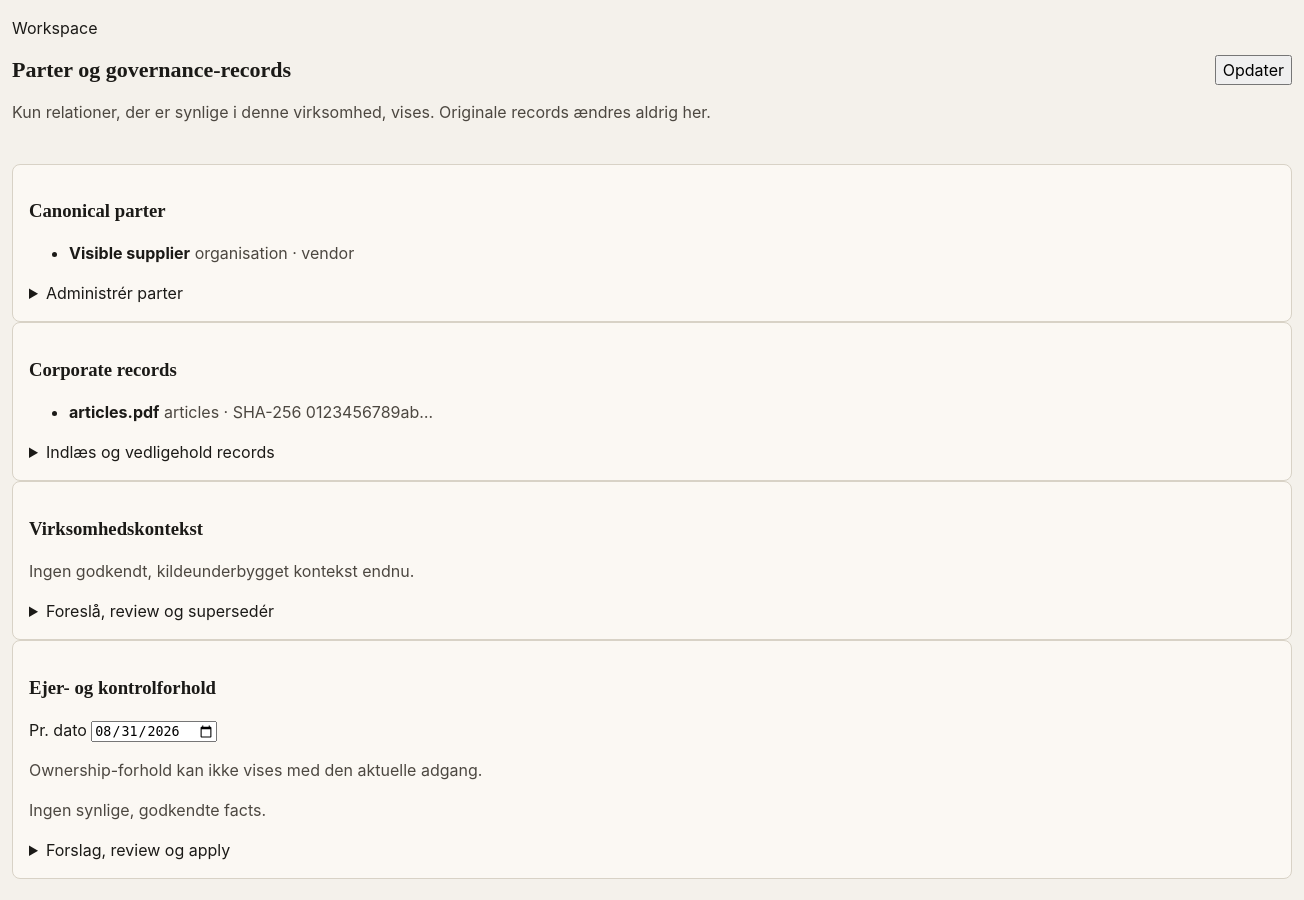
Test: WorkspaceRegistryView › lists visible data and refreshes it through the compact action
Check: the text "Visible supplier" is shown, box 69,243 -> 190,263
Check: the text "articles.pdf" is shown, box 69,402 -> 159,422
Click the button "Opdater": point(1253, 70) 1215,55 -> 1292,85
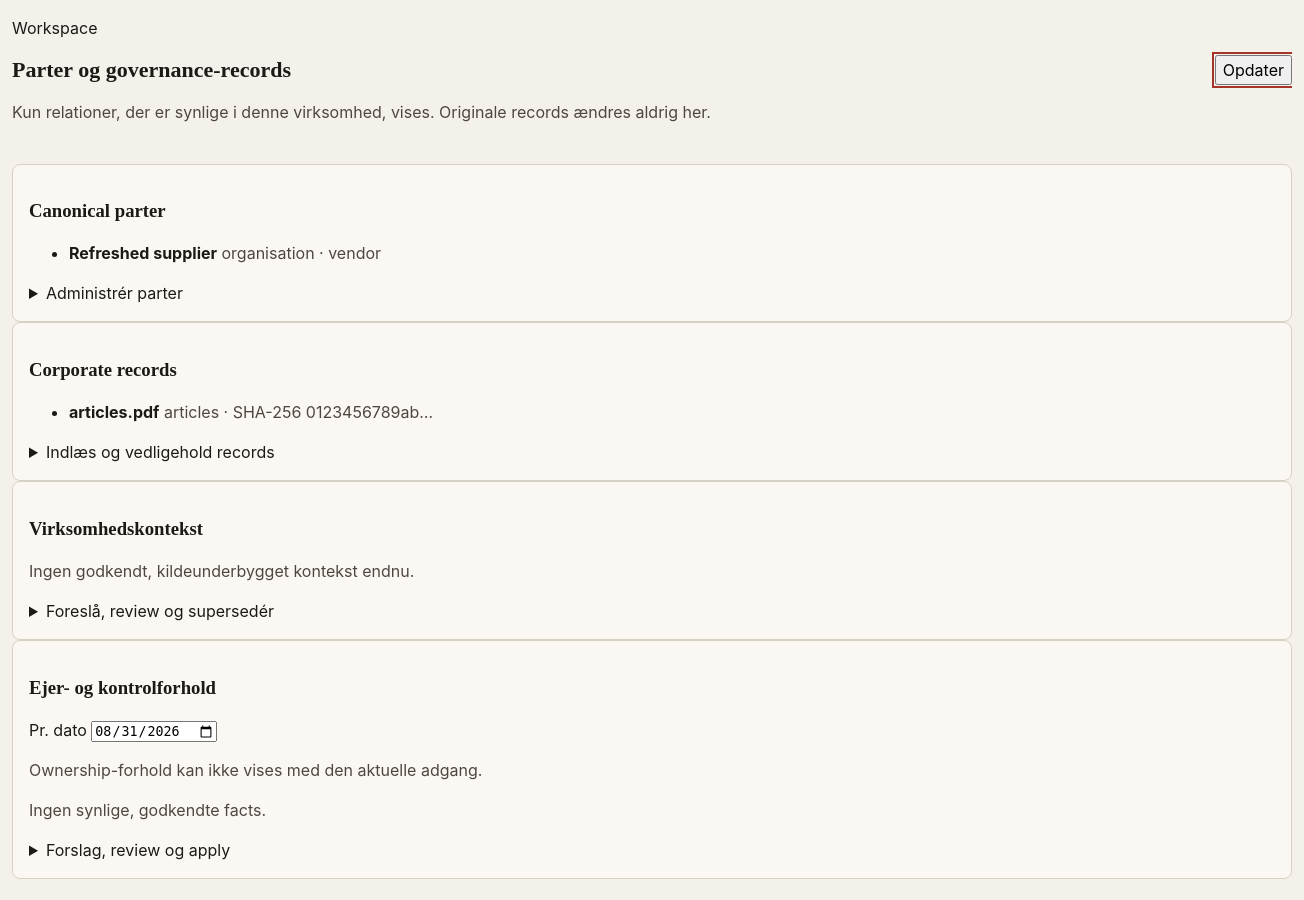
Check: the text "Refreshed supplier" is shown, box 69,243 -> 217,263
